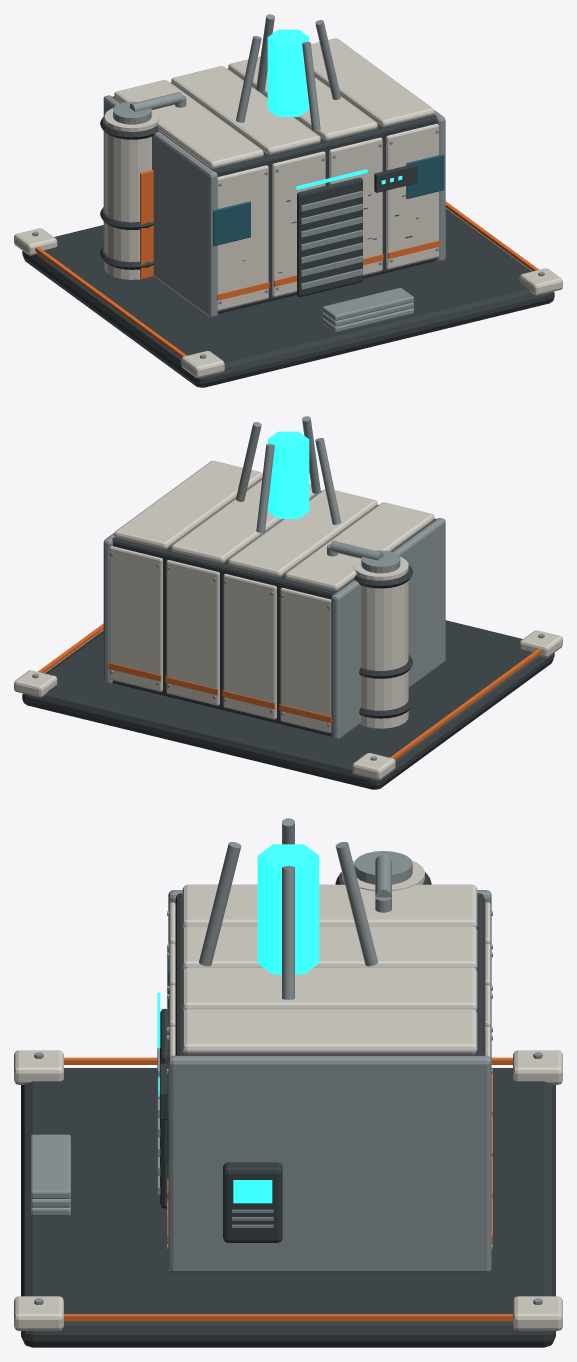
The model's file is SM_XenotechLaboratory_Body.001.fbx.
The picture shows the model from 3 angles, top to bottom: view 1: azimuth 30°, elevation 25°; view 2: azimuth 150°, elevation 25°; view 3: azimuth 270°, elevation 25°; orthographic projection. The views are drawn at different scales.
Parts seen in each view (by area): view 1: SM_XenotechLaboratory_Body.001; view 2: SM_XenotechLaboratory_Body.001; view 3: SM_XenotechLaboratory_Body.001.
Part boxes in pixels (x1,y1,x2,y2): SM_XenotechLaboratory_Body.001: (14, 14, 562, 387); SM_XenotechLaboratory_Body.001: (14, 416, 562, 789); SM_XenotechLaboratory_Body.001: (14, 818, 562, 1347).
Size of the model in its own units: 532 by 462 by 351.
